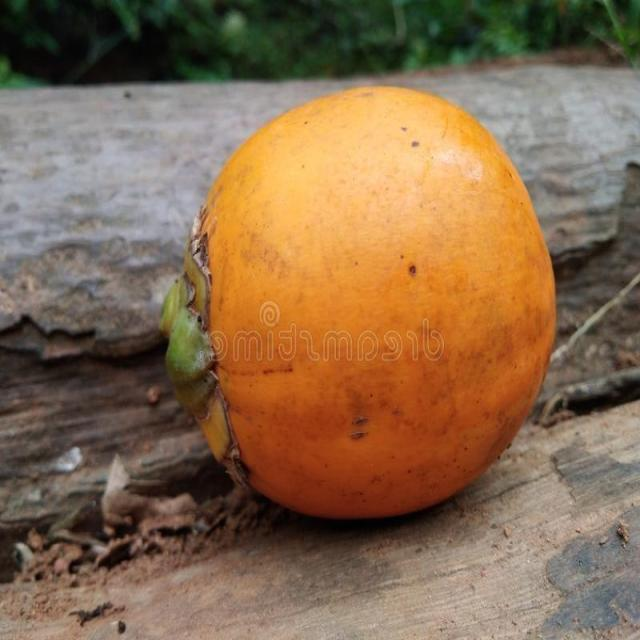good: (162, 86, 558, 524)
